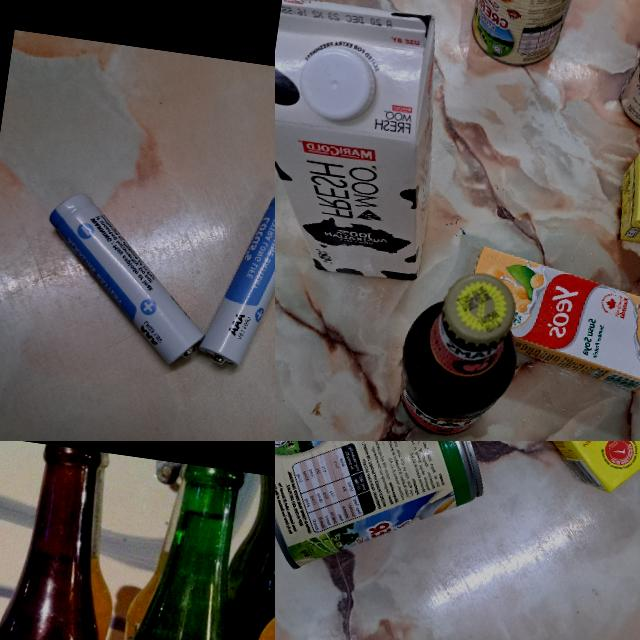bateria: (30, 190, 218, 371), (195, 186, 275, 378)
caixinha: (275, 0, 459, 284), (459, 245, 640, 398), (609, 150, 640, 258)
garrafa de vidro: (80, 457, 271, 640), (0, 441, 134, 640), (390, 263, 529, 441), (202, 474, 275, 640)
lata: (275, 441, 498, 593), (466, 0, 587, 74)
tampa plástica: (294, 44, 379, 127)
